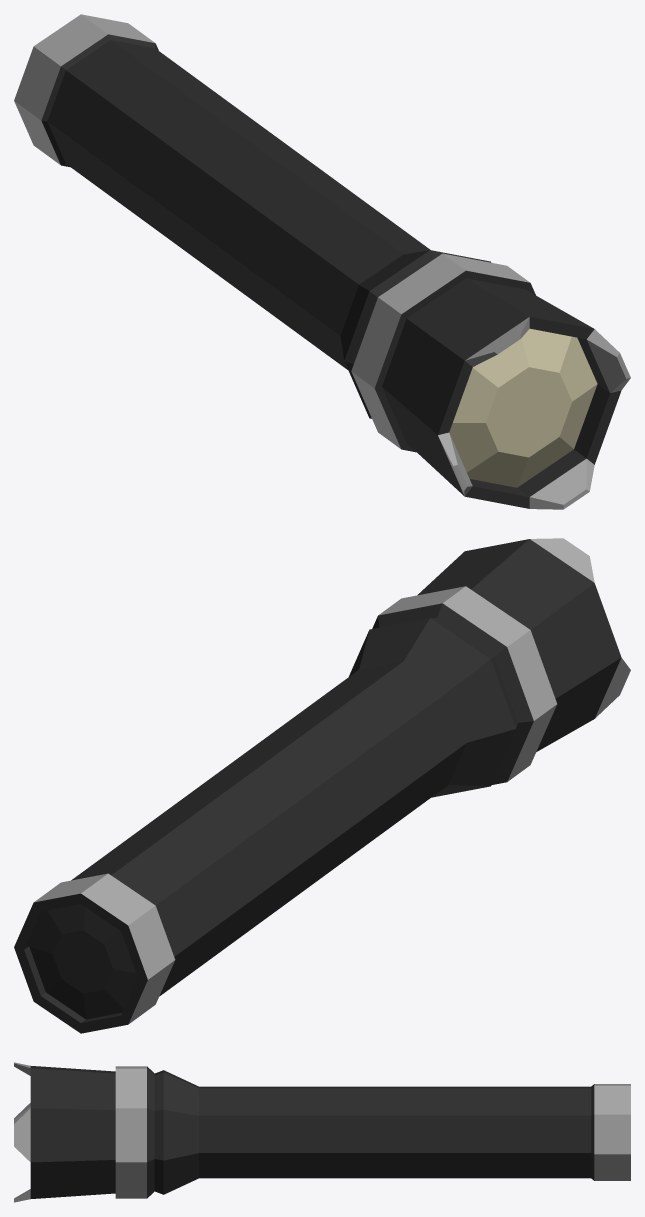
File: Flashlight_vc.fbx
The picture shows the model from 3 angles, top to bottom: view 1: azimuth 30°, elevation 25°; view 2: azimuth 150°, elevation 25°; view 3: azimuth 270°, elevation 25°; orthographic projection. The views are drawn at different scales.
Visible parts, largest first — view 1: Flashlight_vc; view 2: Flashlight_vc; view 3: Flashlight_vc.
Boxes of the visible parts, x1=… form: Flashlight_vc: x1=14, y1=14, x2=630, y2=509; Flashlight_vc: x1=14, y1=538, x2=630, y2=1033; Flashlight_vc: x1=14, y1=1062, x2=630, y2=1202.
Bounding box in the file's own units: 3.73 × 3.73 × 16.2.
